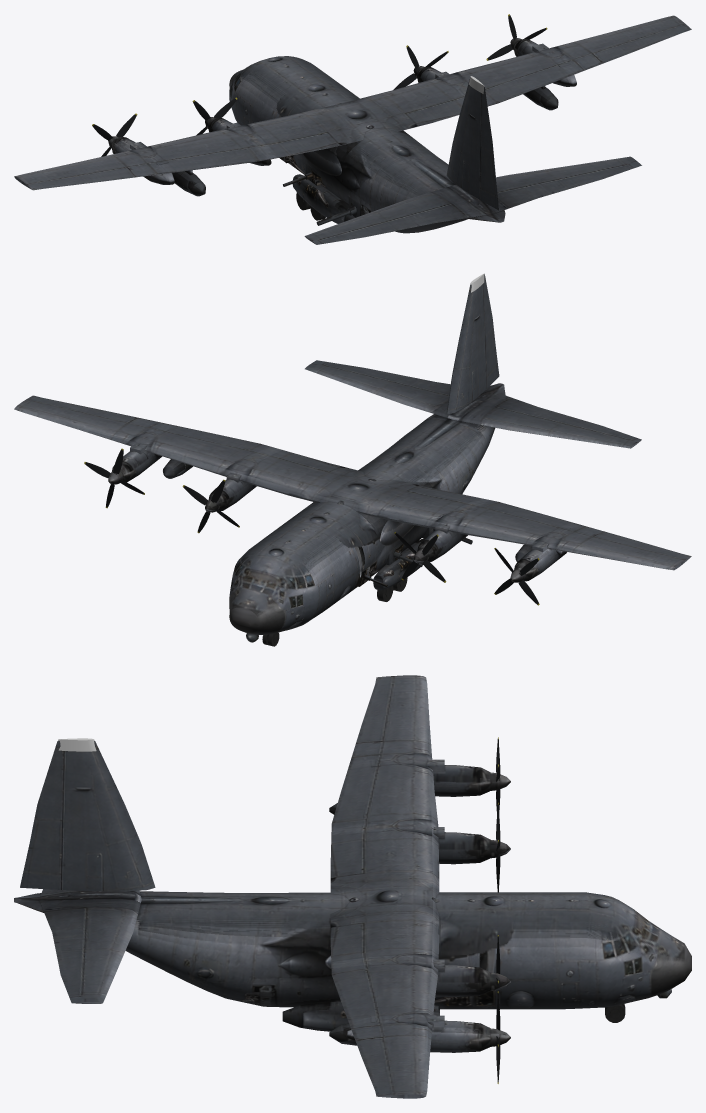
The picture shows the model from 3 angles, top to bottom: view 1: azimuth 30°, elevation 25°; view 2: azimuth 150°, elevation 25°; view 3: azimuth 270°, elevation 25°; orthographic projection. The views are drawn at different scales.
Parts seen in each view (by area): view 1: Body, Prop3, Prop2, Prop0; view 2: Body, Prop3, Prop2, Prop1; view 3: Body.
Part boxes in pixels (x1,y1,x2,y2): Body: [14, 15, 691, 244]; Prop3: [486, 14, 547, 60]; Prop2: [393, 45, 448, 89]; Prop0: [92, 113, 137, 156]; Body: [14, 273, 691, 646]; Prop3: [84, 448, 144, 508]; Prop2: [182, 479, 239, 533]; Prop1: [394, 532, 446, 582]; Body: [14, 675, 691, 1098].
Bounding box in the file's own units: 43.29 × 13.51 × 29.59.
3 materials, 2 textured.
